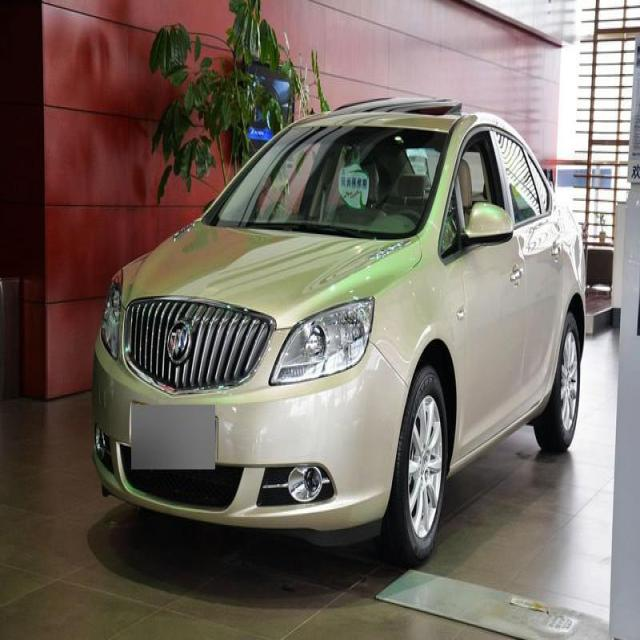front_bumper: (92, 342, 407, 533)
front_glass: (201, 122, 452, 240)
front_left_side_door: (450, 119, 530, 469)
front_left_side_light: (268, 294, 376, 388)
front_left_side_mirror: (464, 201, 515, 249)
front_right_side_light: (100, 268, 126, 359)
wheel: (394, 368, 447, 562), (536, 314, 580, 452)
